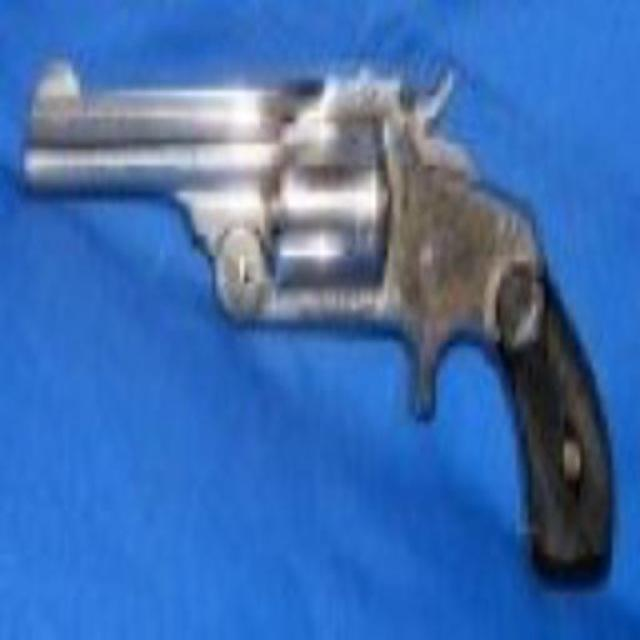pistol: (20, 47, 607, 596)
